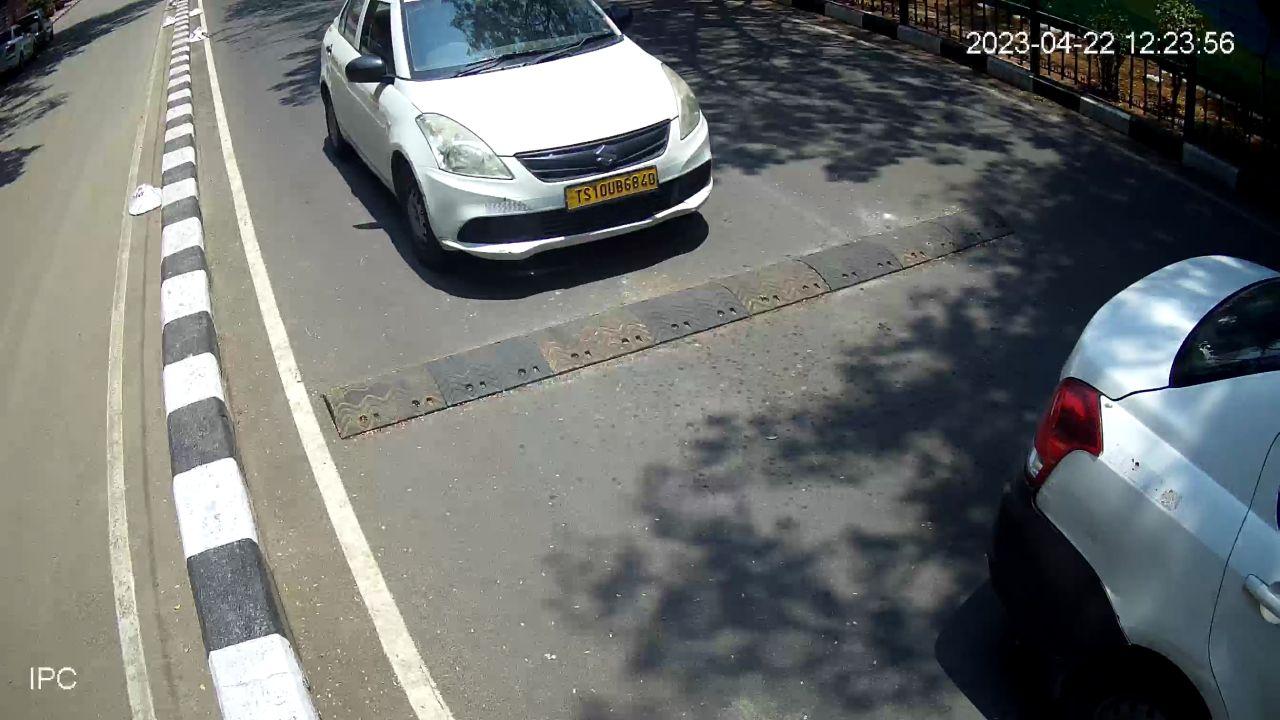license_plate: (558, 159, 664, 217)
